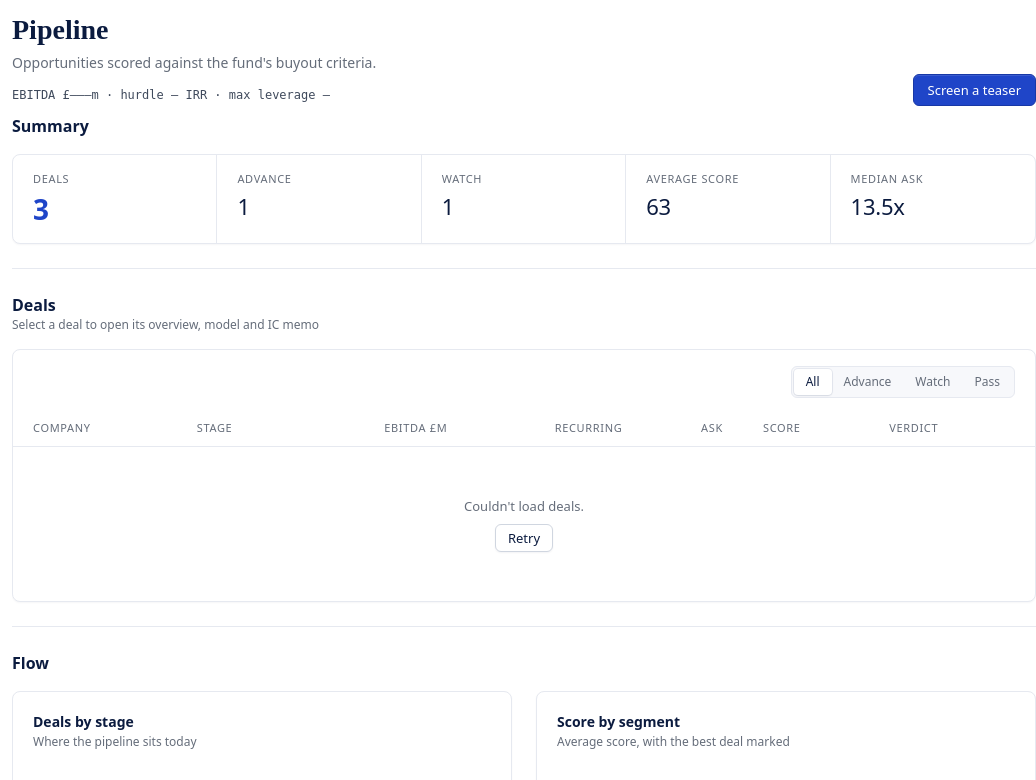
Scenario: PipelineView › shows an error with retry when deals fail to load
Expected: the text "Couldn't load deals." is shown, top-left (464, 496), bottom-right (584, 516)
Click the button "Retry" at (524, 538), box top-left (495, 524), bottom-right (553, 552)
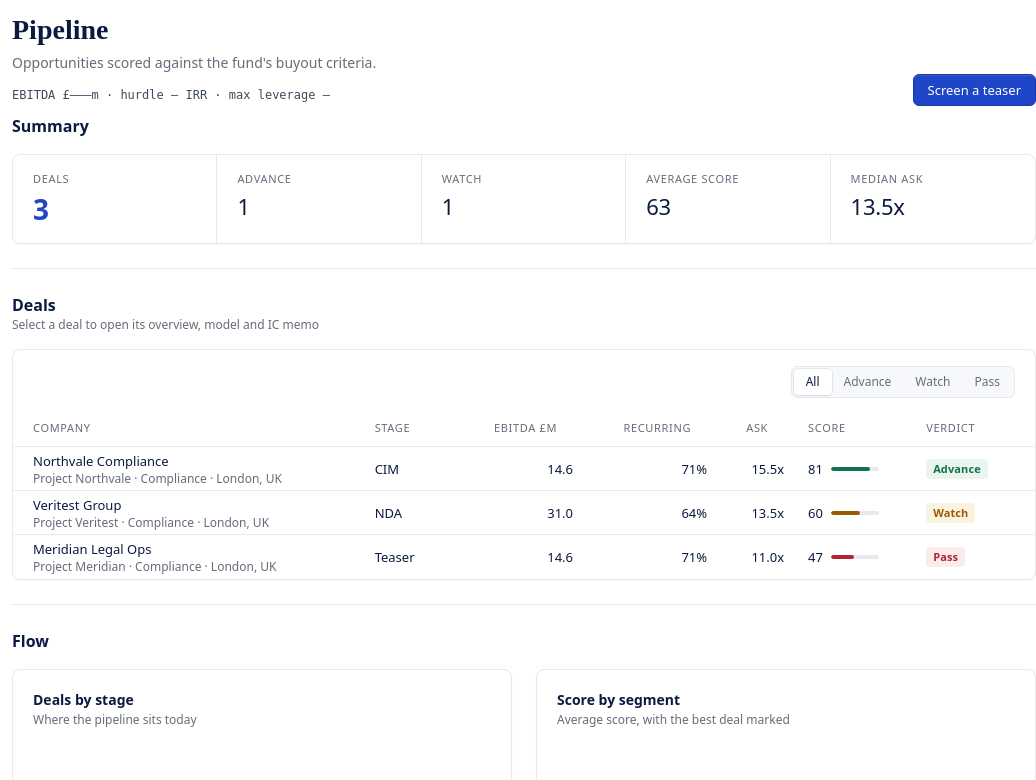
Expected: the row "Northvale" is shown, top-left (13, 446), bottom-right (1035, 490)
